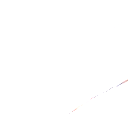crackTip: (66, 75, 128, 124)
